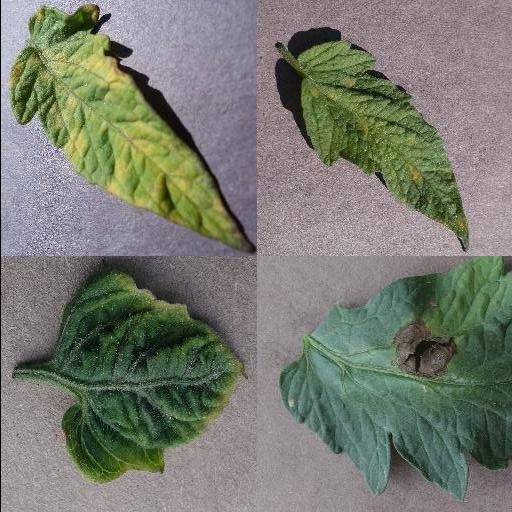Early Blight: (279, 258, 511, 496)
Leaf Mold: (9, 4, 255, 256), (298, 40, 470, 252)
Yellow Leaf Curl Virus: (55, 274, 247, 484)
